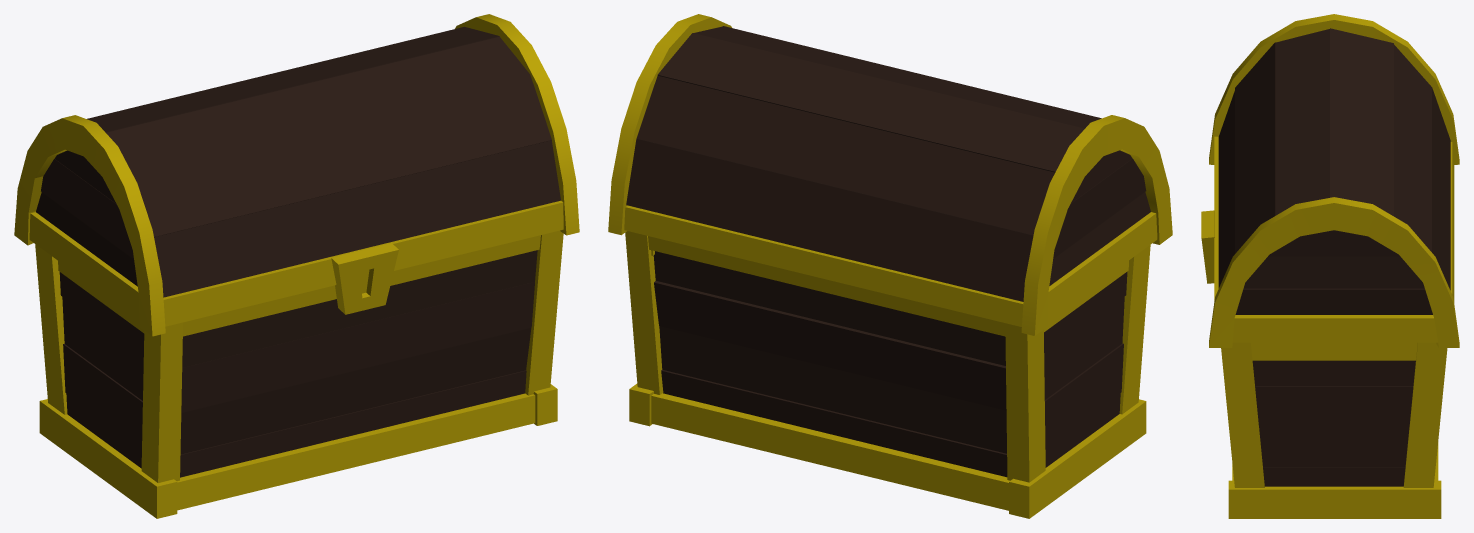
File: ChestGold.fbx
3 renders of one model, left to right at view 1: azimuth 30°, elevation 25°; view 2: azimuth 150°, elevation 25°; view 3: azimuth 270°, elevation 25°, orthographic. The views are drawn at different scales.
Parts seen in each view (by area): view 1: ChestGoldenClosed; view 2: ChestGoldenClosed; view 3: ChestGoldenClosed.
Boxes of the visible parts, box(x1,y1,x2,y2) form: ChestGoldenClosed: box(14, 14, 579, 518); ChestGoldenClosed: box(608, 14, 1172, 518); ChestGoldenClosed: box(1201, 14, 1459, 518).
Size of the model in its own units: 0.3724 by 0.295 by 0.215.
